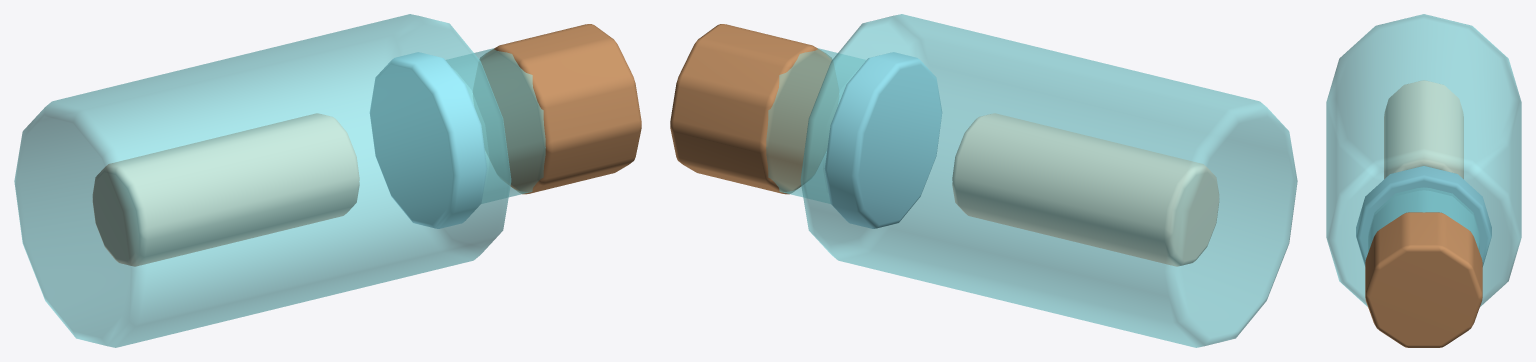
The model's file is message-bottle.glb.
The picture shows the model from 3 angles, left to right: view 1: azimuth 30°, elevation 25°; view 2: azimuth 150°, elevation 25°; view 3: azimuth 270°, elevation 25°; orthographic projection. The views are drawn at different scales.
Parts seen in each view (by area): view 1: transparent teal bottle body, rolled message, cork stopper, bottle lip ring, narrow bottle neck; view 2: transparent teal bottle body, rolled message, cork stopper, bottle lip ring, narrow bottle neck; view 3: transparent teal bottle body, cork stopper, rolled message, bottle lip ring, narrow bottle neck.
Part boxes in pixels (x1,y1,x2,y2): transparent teal bottle body: (14,14,511,347); rolled message: (92,113,359,266); cork stopper: (473,24,641,194); bottle lip ring: (369,52,487,228); narrow bottle neck: (446,48,545,203); transparent teal bottle body: (800,14,1297,347); rolled message: (952,113,1219,266); cork stopper: (670,24,838,194); bottle lip ring: (824,52,942,228); narrow bottle neck: (766,48,865,203); transparent teal bottle body: (1326,14,1521,306); cork stopper: (1365,212,1482,347); rolled message: (1384,80,1463,178); bottle lip ring: (1356,166,1491,266); narrow bottle neck: (1368,188,1479,252).
Size of the model in its own units: 0.87 by 0.36 by 0.36.
